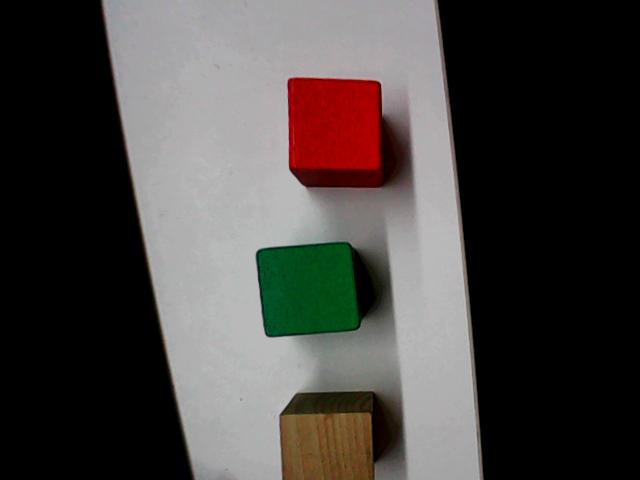green_box: (251, 238, 364, 340)
raw_box: (275, 388, 378, 480)
red_box: (282, 74, 387, 190)
